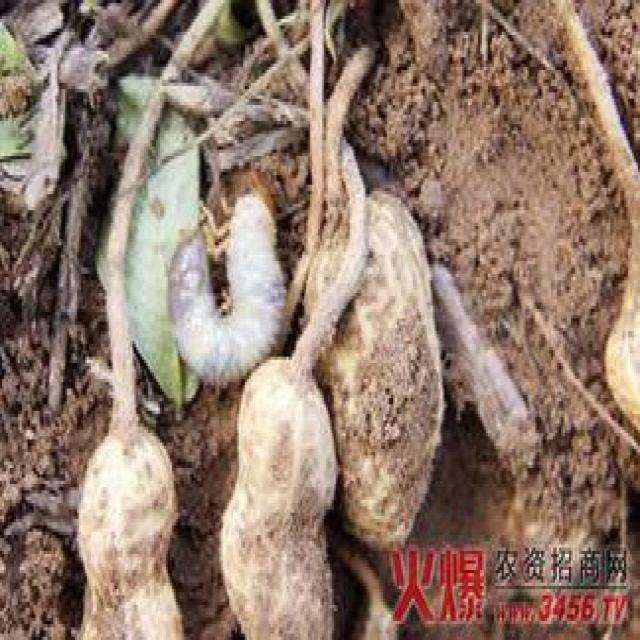Grub-Adult-: (154, 172, 301, 405)
